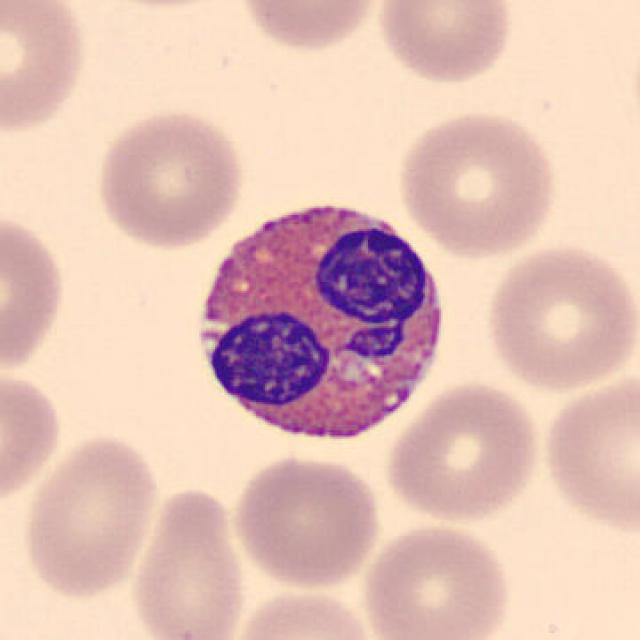Eosinophil: (176, 182, 459, 462)
RBC: (393, 106, 562, 259), (380, 378, 546, 526), (480, 238, 636, 395), (18, 430, 160, 601), (91, 106, 249, 252), (228, 451, 384, 591), (126, 485, 249, 640), (358, 520, 516, 640), (537, 367, 640, 538), (0, 0, 92, 139), (373, 0, 519, 86), (0, 208, 69, 382), (0, 365, 66, 511), (227, 583, 378, 640), (233, 0, 386, 55), (81, 0, 243, 12)
